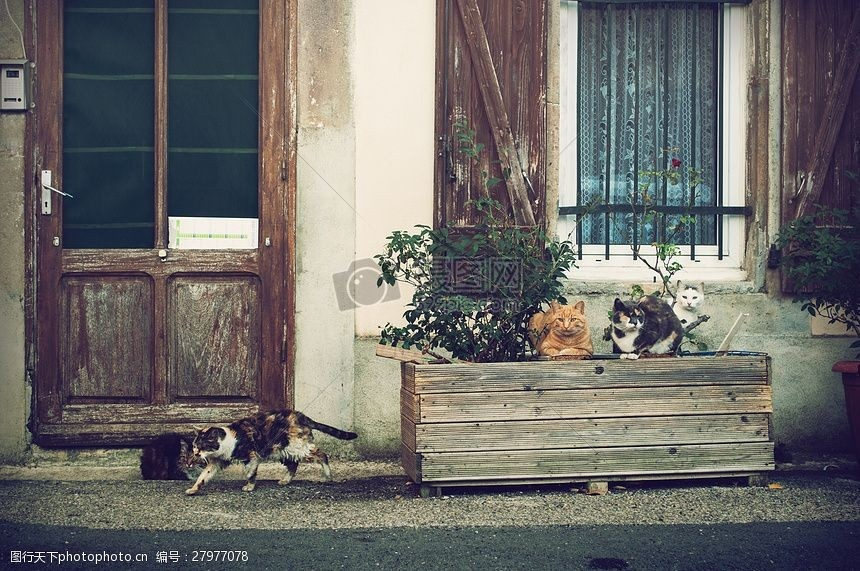cat: (184, 409, 358, 496), (608, 294, 685, 361), (526, 298, 595, 359), (662, 281, 705, 333)
